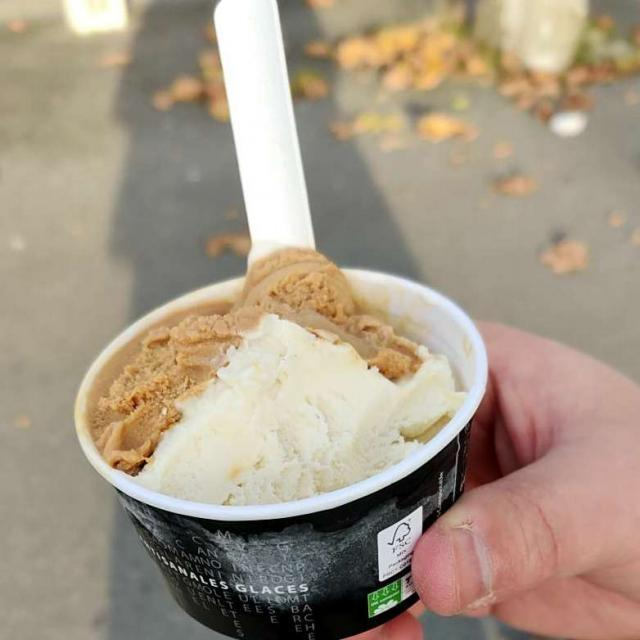ice-cream: (90, 250, 455, 504)
